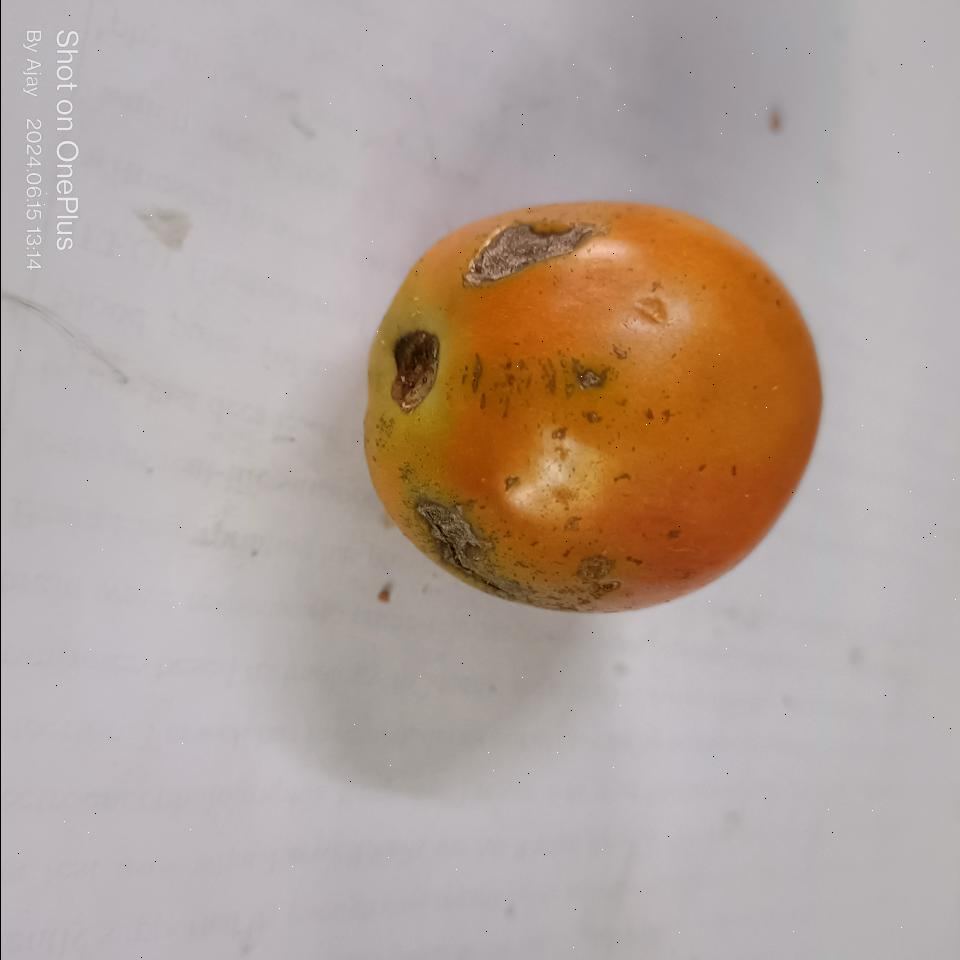Bacterial_Spot: (405, 495, 622, 600), (468, 210, 600, 282), (567, 354, 611, 396)
